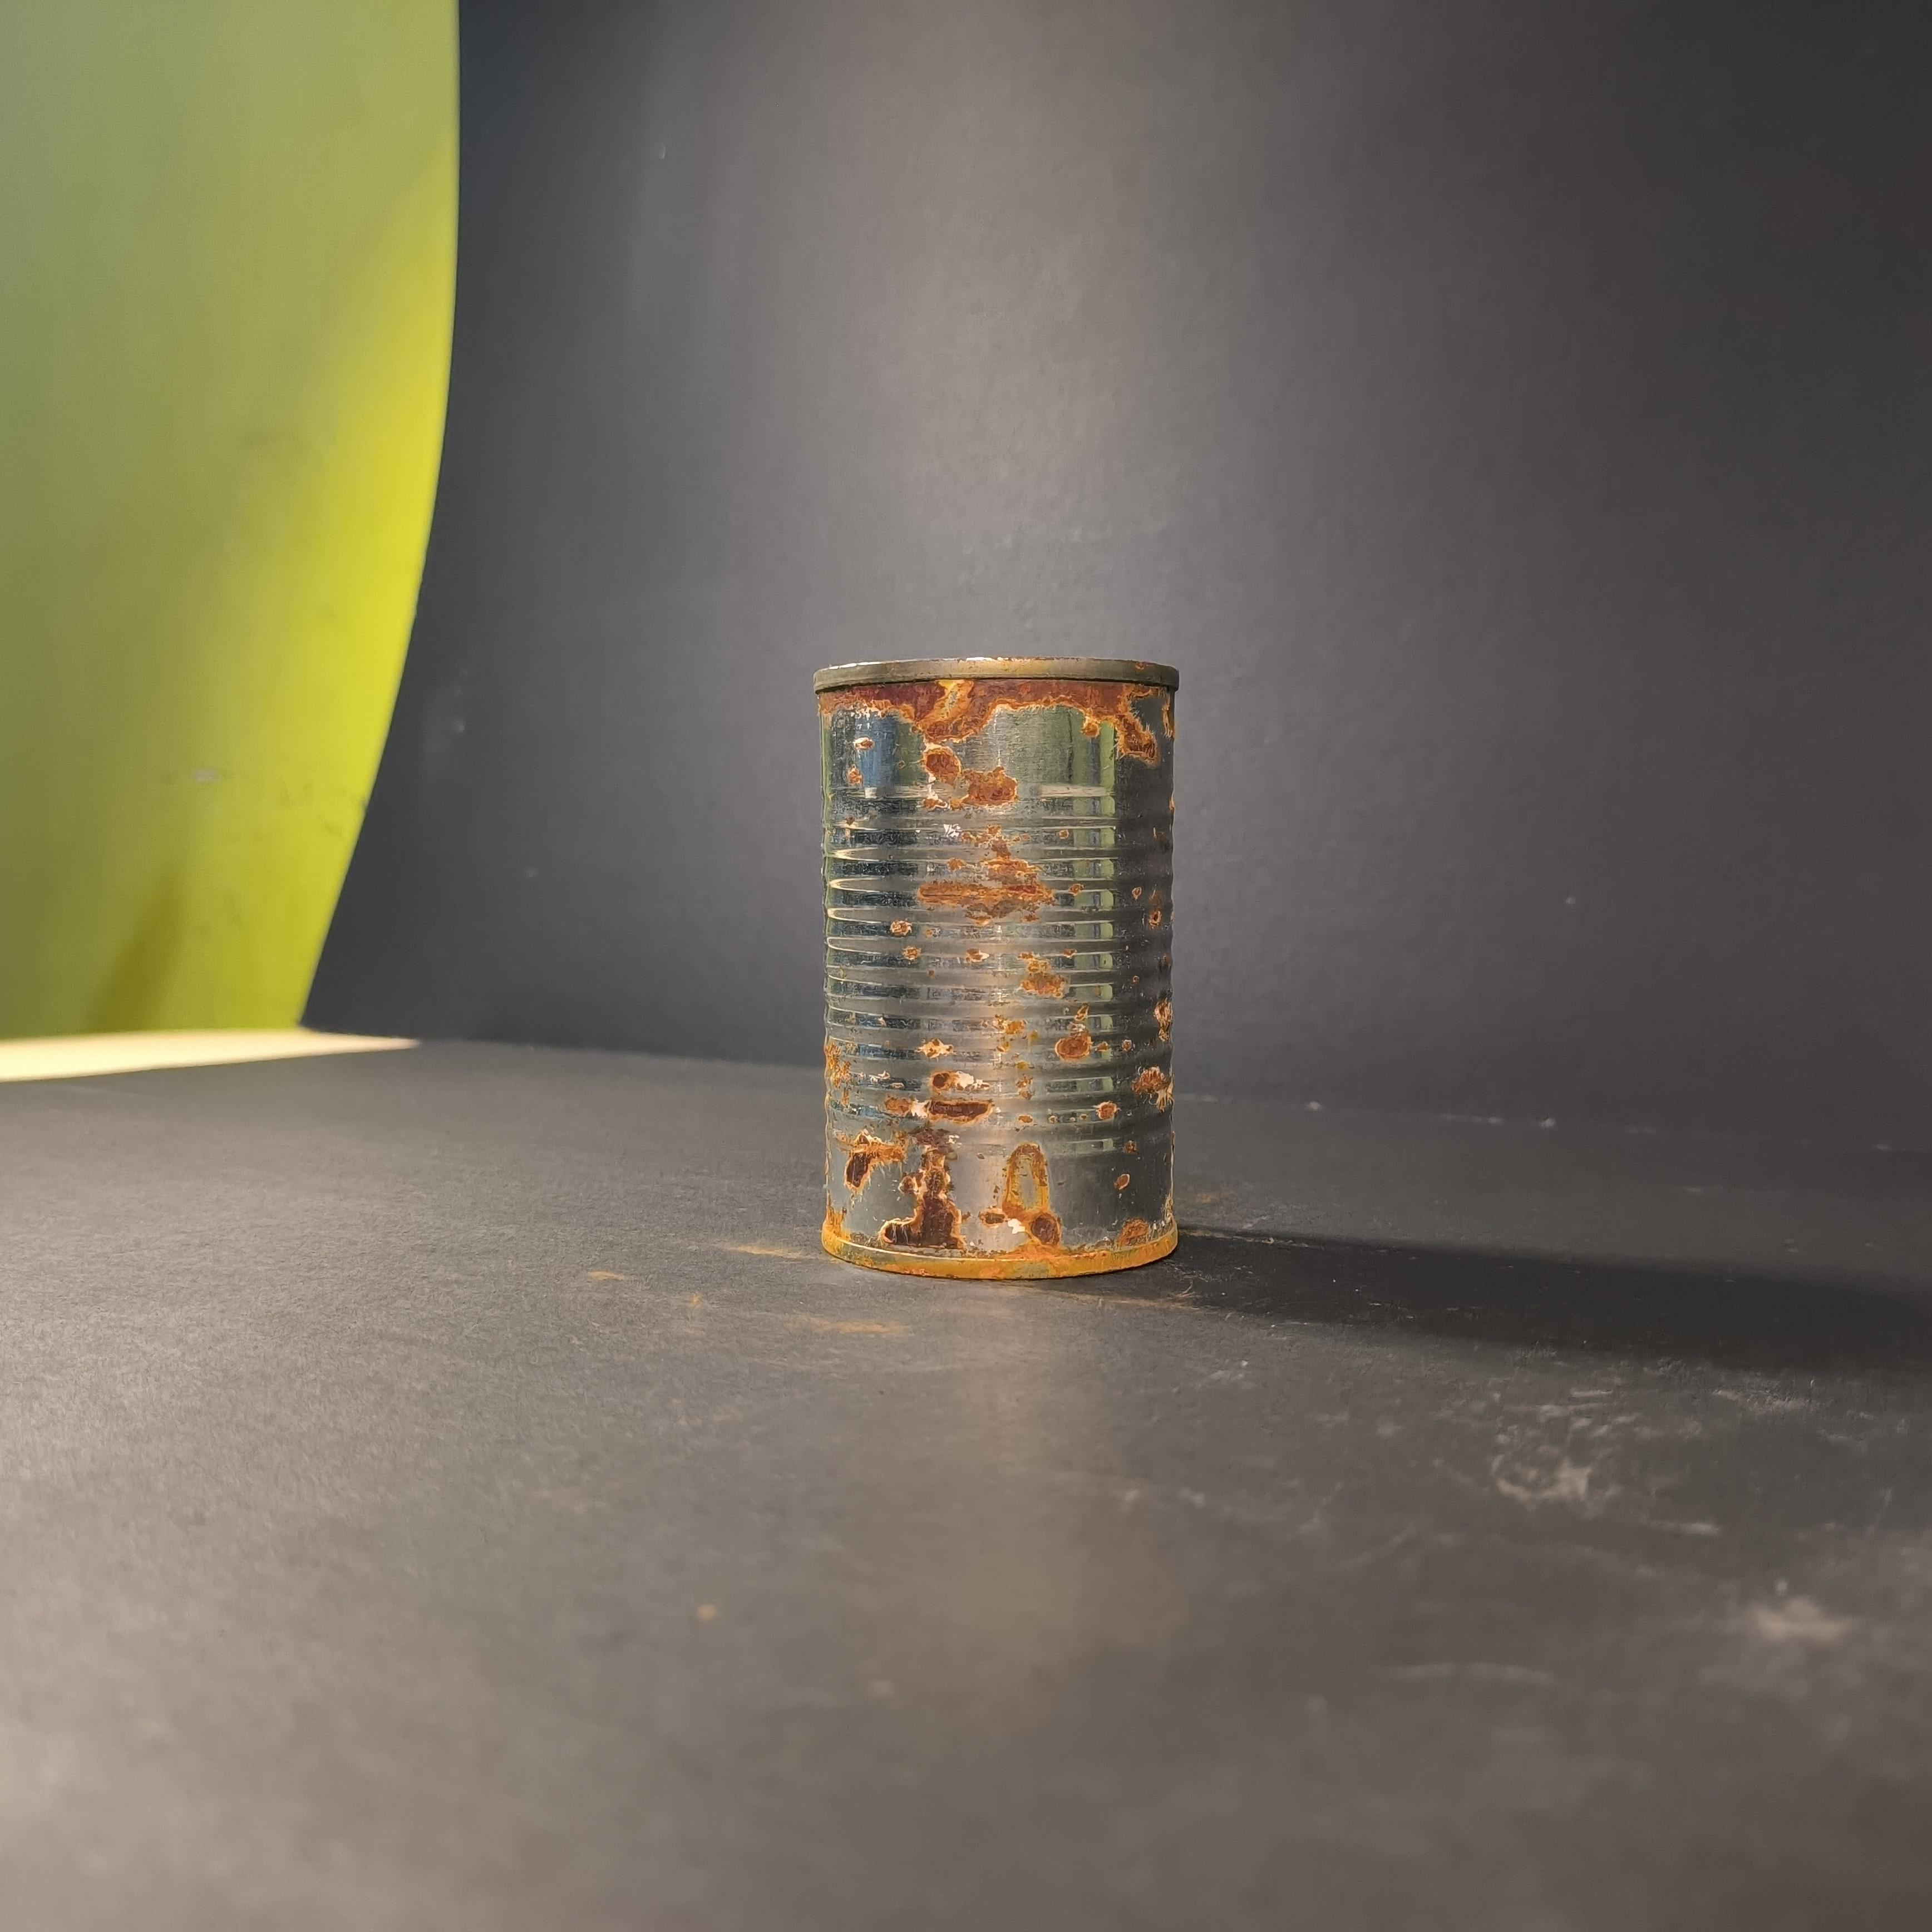Rusted: (810, 635, 1191, 1286)
